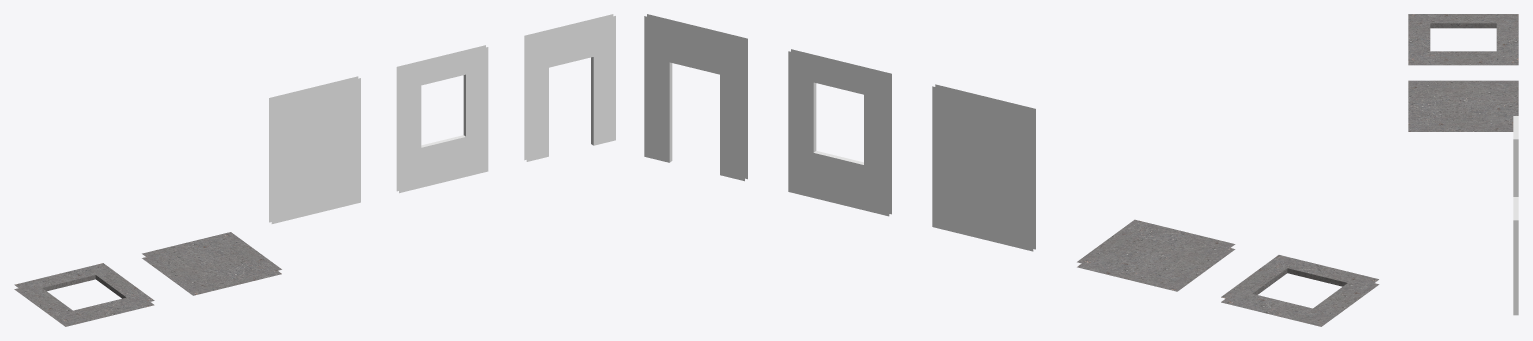
File: building_parts.glb
3 renders of one model, left to right at view 1: azimuth 30°, elevation 25°; view 2: azimuth 150°, elevation 25°; view 3: azimuth 270°, elevation 25°, orthographic. The views are drawn at different scales.
Visible parts, largest first — view 1: Wall, Window, Door, Floor, Hole; view 2: Wall, Window, Door, Floor, Hole; view 3: Floor, Hole, Door, Window.
Boxes of the visible parts, x1=… form: Wall: x1=269, y1=76, x2=360, y2=223; Window: x1=396, y1=45, x2=488, y2=193; Door: x1=524, y1=14, x2=615, y2=161; Floor: x1=142, y1=232, x2=281, y2=295; Hole: x1=14, y1=263, x2=154, y2=326; Wall: x1=932, y1=84, x2=1035, y2=251; Window: x1=788, y1=49, x2=891, y2=216; Door: x1=644, y1=14, x2=747, y2=181; Floor: x1=1077, y1=219, x2=1235, y2=291; Hole: x1=1221, y1=255, x2=1379, y2=326; Floor: x1=1408, y1=80, x2=1518, y2=131; Hole: x1=1408, y1=14, x2=1518, y2=65; Door: x1=1513, y1=197, x2=1518, y2=315; Window: x1=1513, y1=116, x2=1518, y2=196.
Bounding box in the file's own units: 14.1 × 2.9 × 2.1.
Materials: 3 (3 with a texture image).
